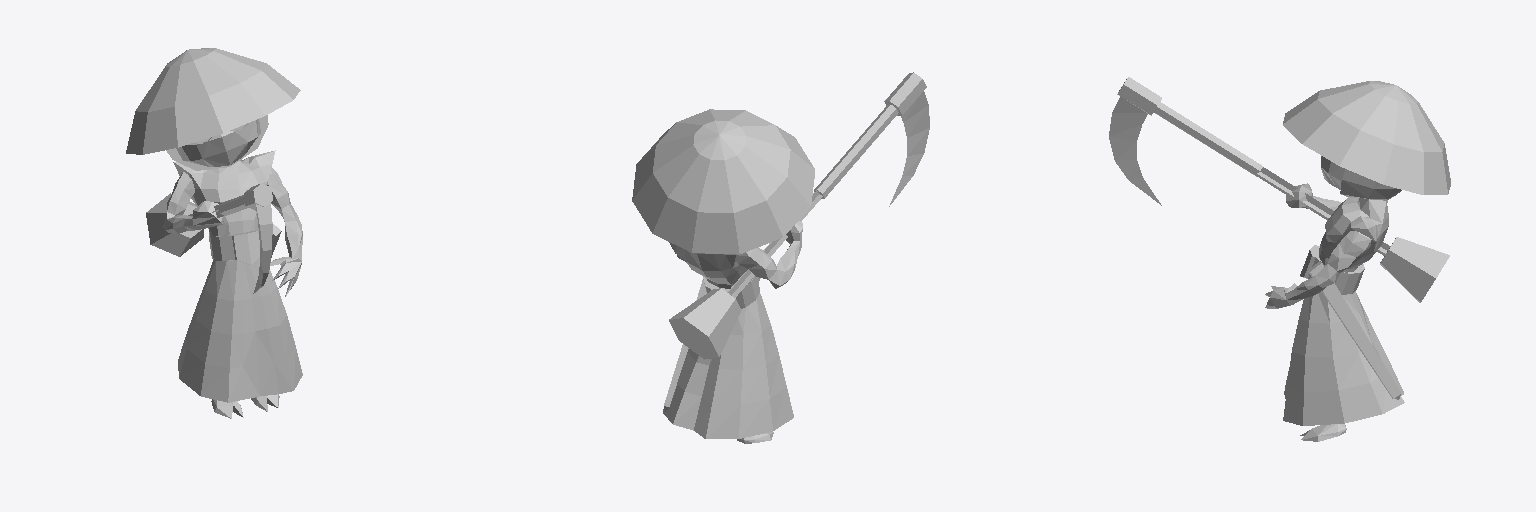
The model's file is Death Ninja.obj.
3 renders of one model, left to right at view 1: azimuth 30°, elevation 25°; view 2: azimuth 150°, elevation 25°; view 3: azimuth 270°, elevation 25°, orthographic.
Parts seen in each view (by area): view 1: Inst3D17_RefRep.320, Inst3D16_RefRep.318; view 2: Inst3D17_RefRep.320, Inst3D16_RefRep.318; view 3: Inst3D17_RefRep.320, Inst3D16_RefRep.318.
Part boxes in pixels (x1,y1,x2,y2): Inst3D17_RefRep.320: (126, 48, 302, 418); Inst3D16_RefRep.318: (146, 183, 272, 293); Inst3D17_RefRep.320: (632, 109, 814, 443); Inst3D16_RefRep.318: (669, 72, 929, 359); Inst3D17_RefRep.320: (1265, 81, 1450, 441); Inst3D16_RefRep.318: (1109, 77, 1449, 302).
Size of the model in its own units: 2.88 by 5.84 by 5.36.